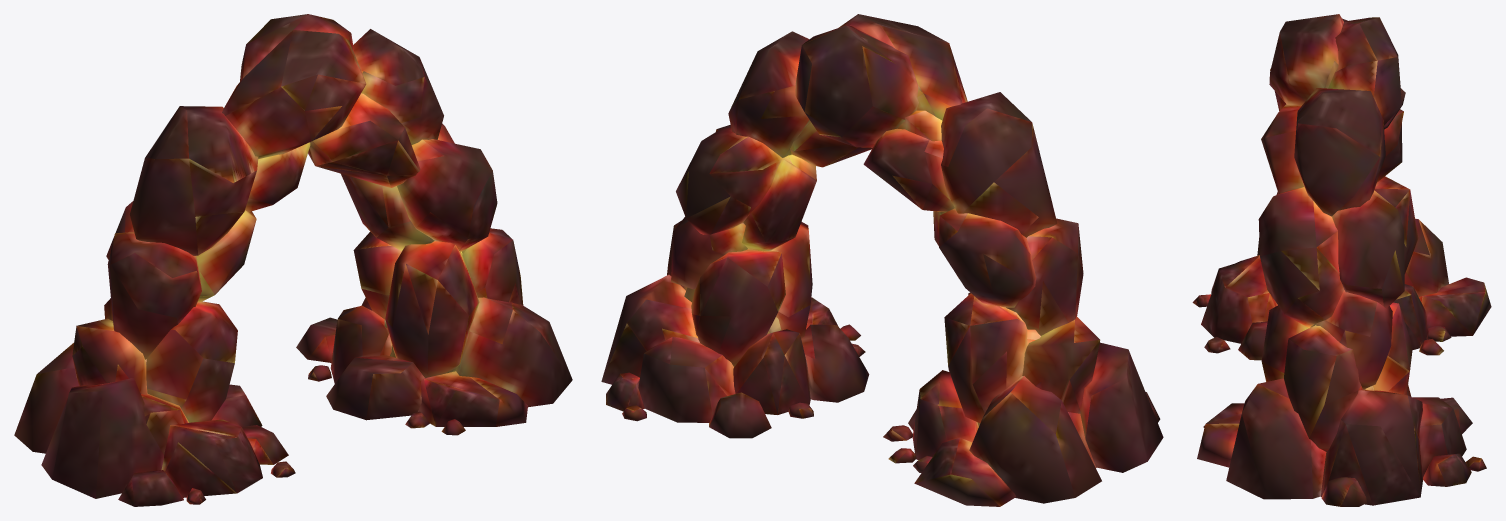
Rendered from lava_arch_1_low.glb.
3 views of the same model, side by side, from view 1: azimuth 30°, elevation 25°; view 2: azimuth 150°, elevation 25°; view 3: azimuth 270°, elevation 25° (orthographic). The views are drawn at different scales.
Parts seen in each view (by area): view 1: Mesh_0.003; view 2: Mesh_0.003; view 3: Mesh_0.003.
Part boxes in pixels (<box>): Mesh_0.003: <box>14,14,572,506</box>; Mesh_0.003: <box>601,14,1163,506</box>; Mesh_0.003: <box>1192,14,1491,506</box>.
Bounding box in the file's own units: 1 × 0.7148 × 0.5195.
1 material, 1 textured.
